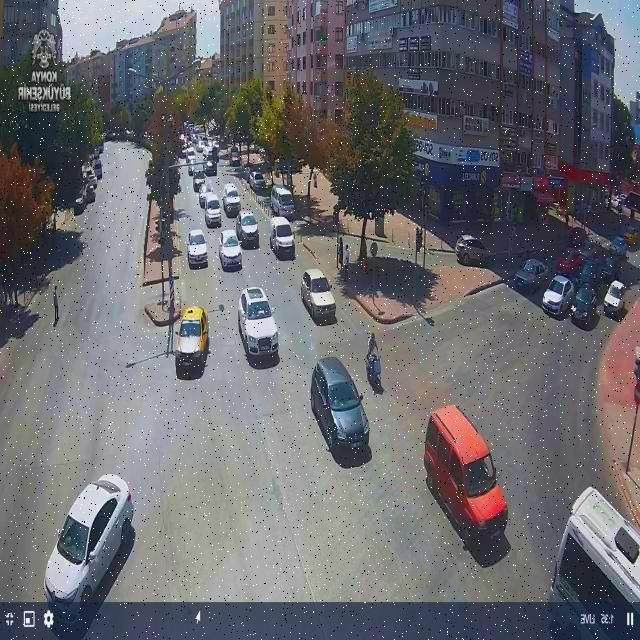Car: (42, 474, 135, 606), (311, 358, 369, 453), (239, 286, 280, 357), (175, 306, 209, 370), (299, 269, 335, 323), (542, 274, 577, 317), (570, 284, 599, 327), (513, 257, 549, 291), (455, 234, 491, 266), (269, 216, 296, 258), (218, 229, 242, 269), (602, 280, 626, 318), (235, 210, 259, 247), (577, 258, 607, 287), (187, 228, 208, 268), (554, 248, 584, 274), (200, 192, 222, 226), (222, 184, 242, 217), (608, 236, 630, 257), (248, 170, 267, 192), (198, 185, 214, 209), (193, 170, 206, 192)
Van: (552, 487, 640, 635), (423, 404, 508, 540), (270, 185, 296, 220)
